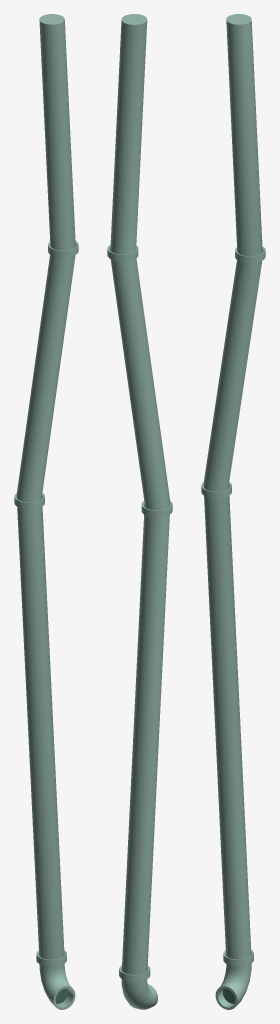
File: Drain Pipe bent 01.fbx
The picture shows the model from 3 angles, left to right: view 1: azimuth 30°, elevation 25°; view 2: azimuth 150°, elevation 25°; view 3: azimuth 330°, elevation 25°; orthographic projection.
Parts seen in each view (by area): view 1: Cylinder.013; view 2: Cylinder.013; view 3: Cylinder.013.
Part boxes in pixels (<box>): Cylinder.013: <box>14,14,78,1009</box>; Cylinder.013: <box>107,14,172,1009</box>; Cylinder.013: <box>201,14,265,1009</box>.
Bounding box in the file's own units: 56.26 × 876 × 32.69.
